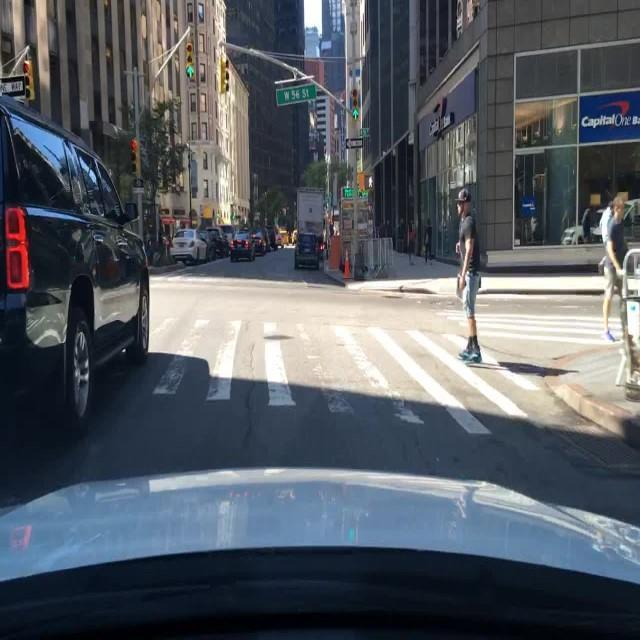normal: (163, 199, 332, 280)
